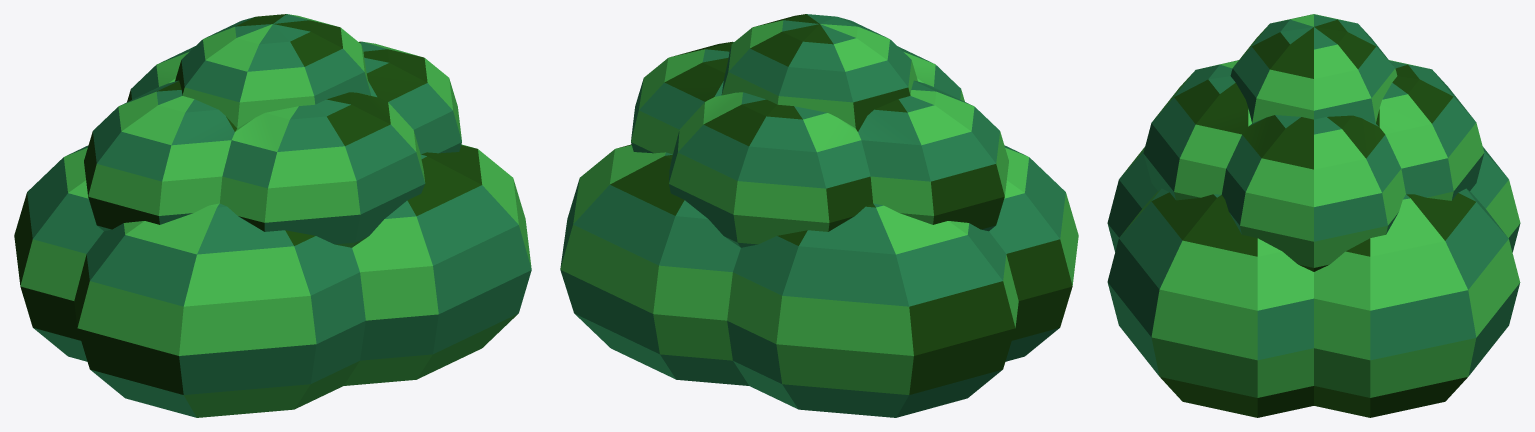
Rendered from bush.fbx.
The picture shows the model from 3 angles, left to right: view 1: azimuth 30°, elevation 25°; view 2: azimuth 150°, elevation 25°; view 3: azimuth 270°, elevation 25°; orthographic projection.
Visible parts, largest first — view 1: polySurface8; view 2: polySurface8; view 3: polySurface8.
Part boxes in pixels (<box>): polySurface8: <box>14,14,531,417</box>; polySurface8: <box>560,14,1078,417</box>; polySurface8: <box>1107,14,1520,417</box>.
Bounding box in the file's own units: 25.51 × 16.88 × 20.64.
1 material, 1 textured.
